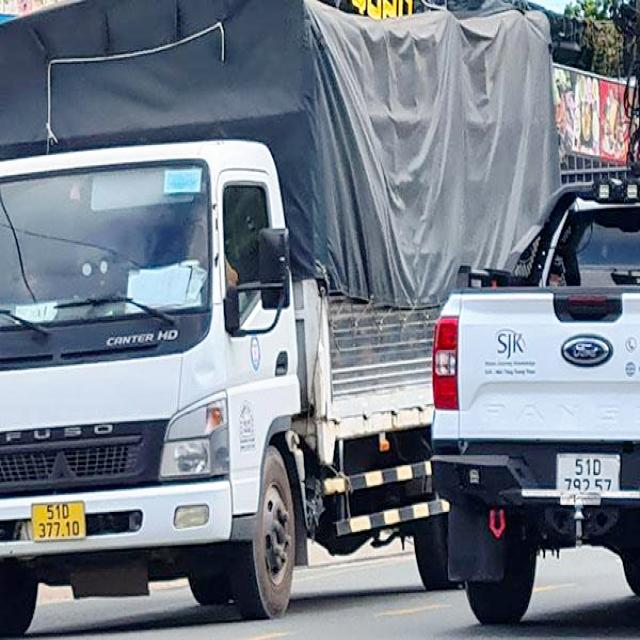license_plate: (33, 503, 88, 540)
